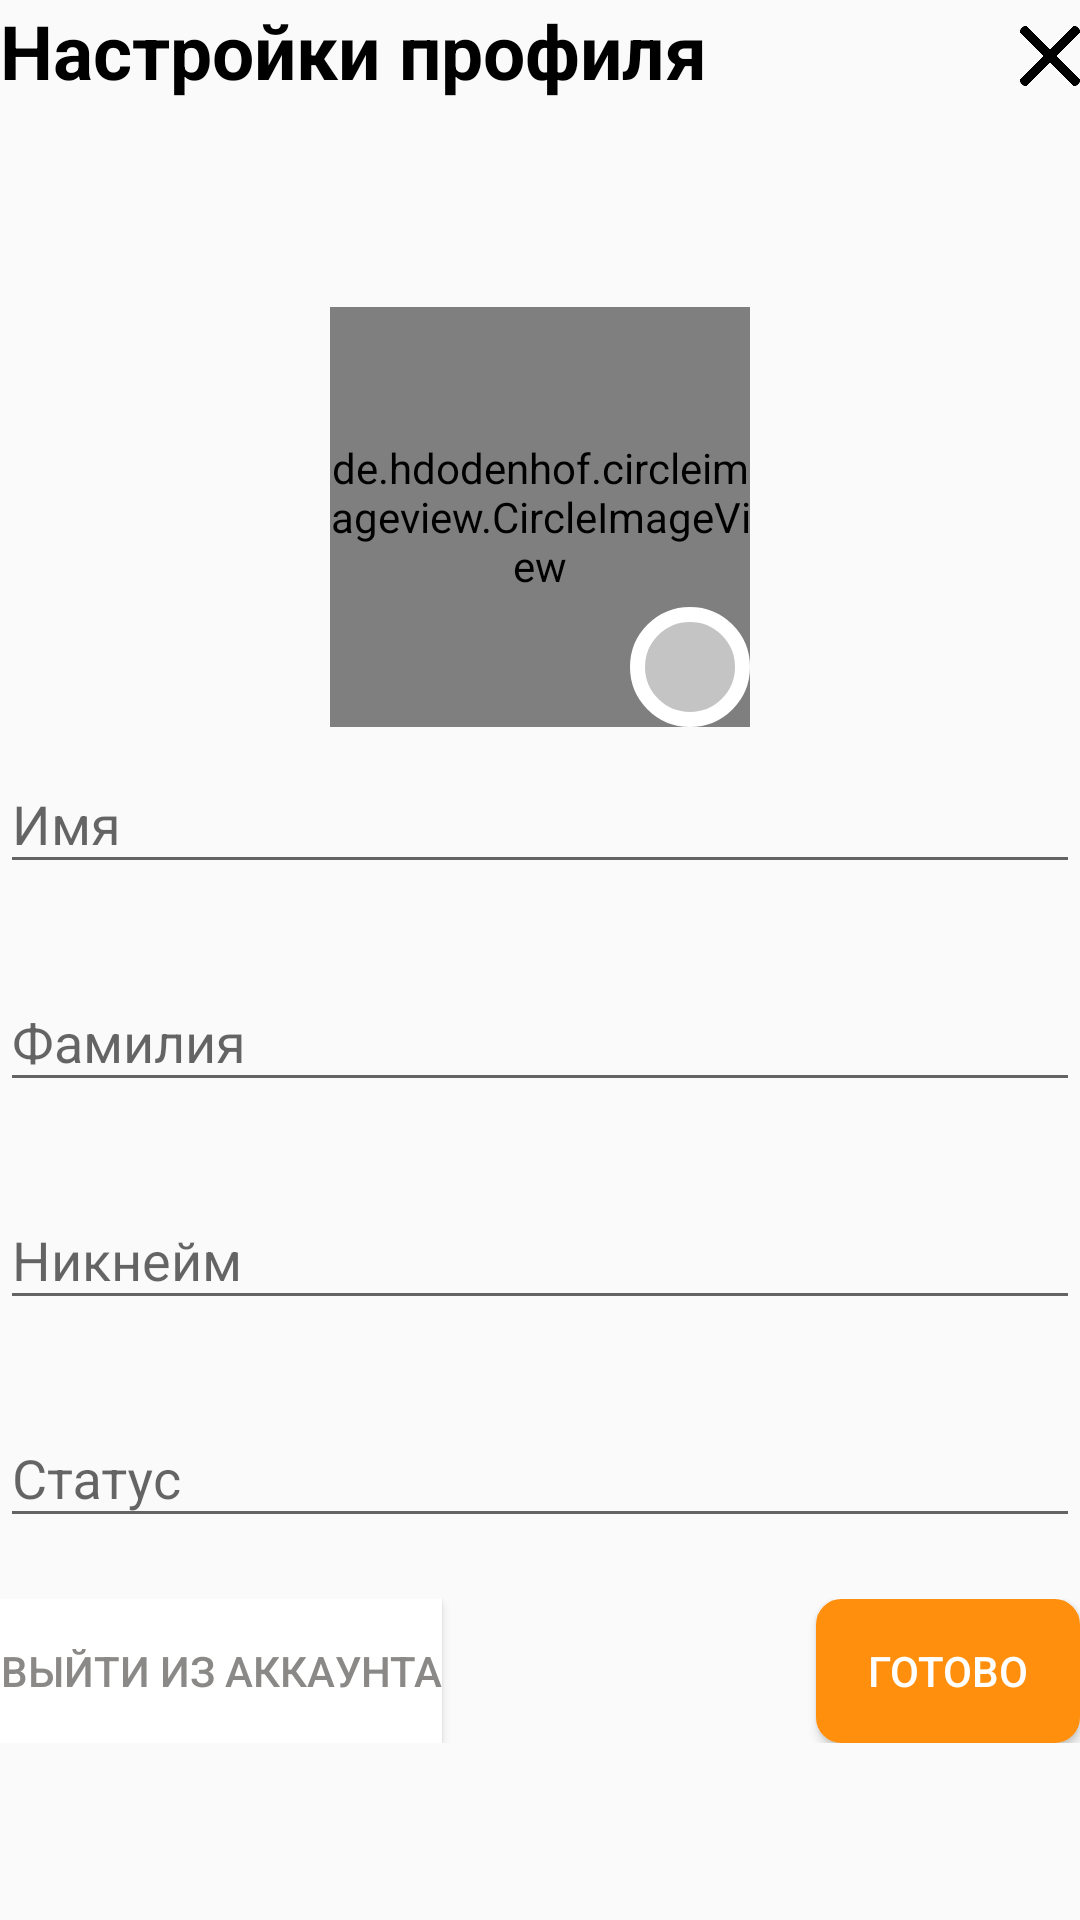

Screen size 1080 x 1920. Icon name, then its center in pixels as [x,y]:
close: [1050,56]
